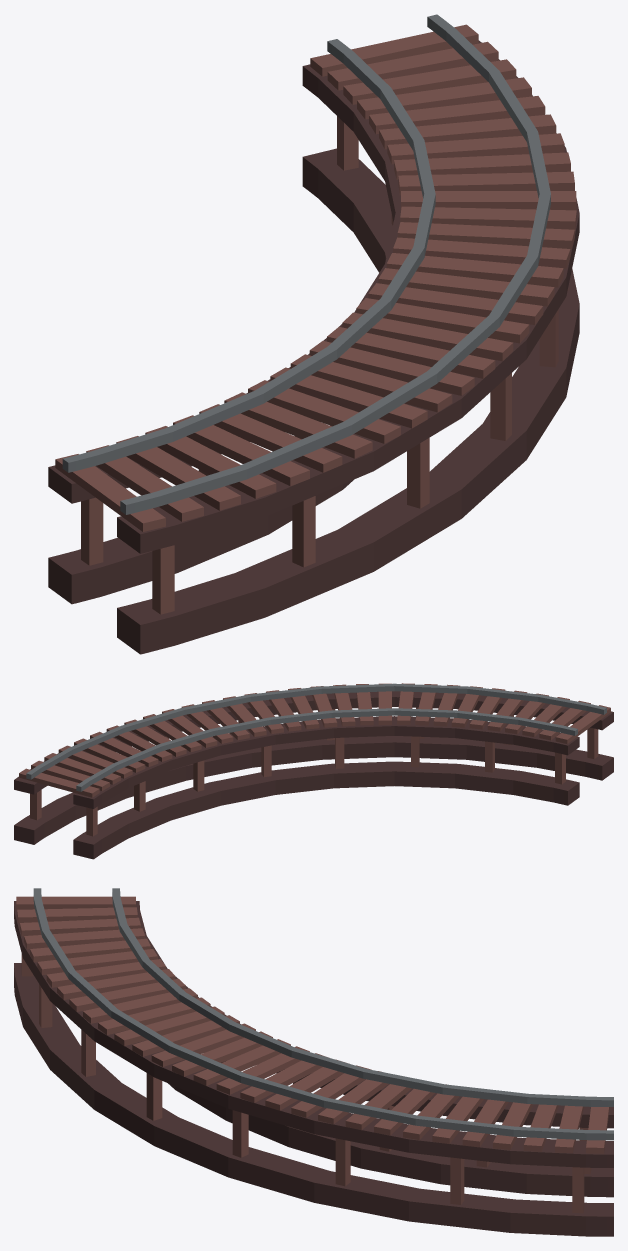
Rendered from DarkRoseWoodMechMedium1_5GaugeLeftTurn1.fbx.
The picture shows the model from 3 angles, top to bottom: view 1: azimuth 30°, elevation 25°; view 2: azimuth 150°, elevation 25°; view 3: azimuth 270°, elevation 25°; orthographic projection. The views are drawn at different scales.
Parts seen in each view (by area): view 1: DarkRoseWoodMechMedium1_5GaugeLeftTurn1; view 2: DarkRoseWoodMechMedium1_5GaugeLeftTurn1; view 3: DarkRoseWoodMechMedium1_5GaugeLeftTurn1.
Boxes of the visible parts, box(x1,y1,x2,y2) form: DarkRoseWoodMechMedium1_5GaugeLeftTurn1: box(48, 14, 579, 654); DarkRoseWoodMechMedium1_5GaugeLeftTurn1: box(14, 683, 613, 859); DarkRoseWoodMechMedium1_5GaugeLeftTurn1: box(14, 888, 613, 1236).
Bounding box in the file's own units: 1265 × 221 × 1265.
